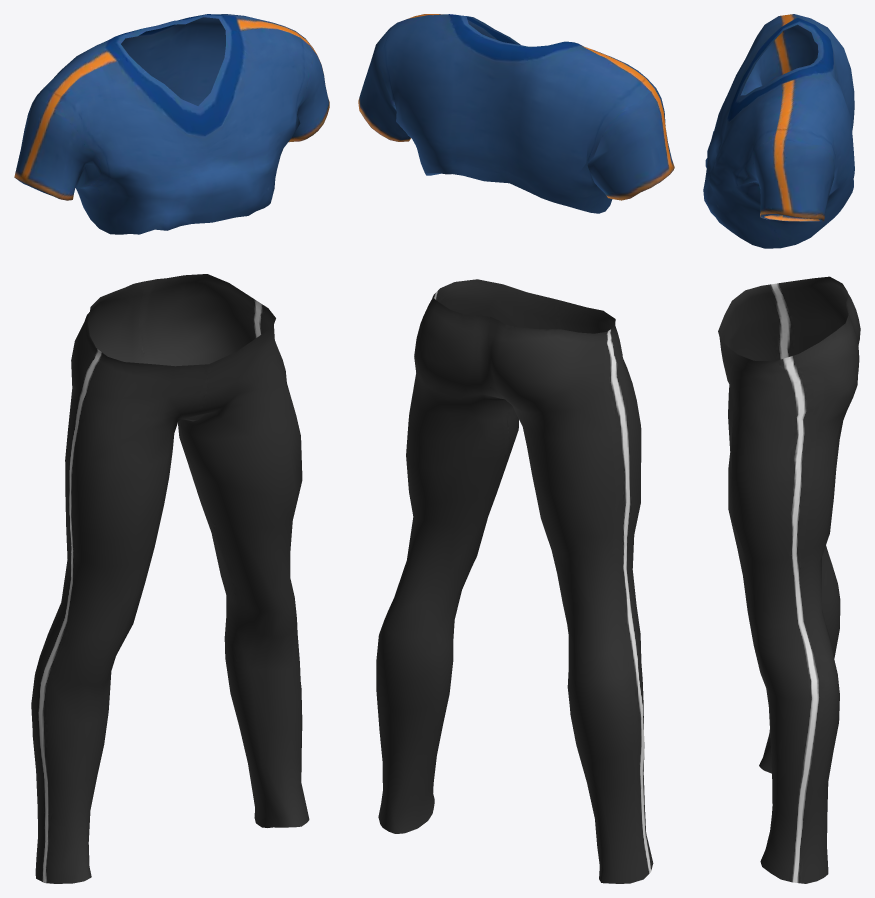
Rendered from female-sportsuit01.glb.
The picture shows the model from 3 angles, left to right: view 1: azimuth 30°, elevation 25°; view 2: azimuth 150°, elevation 25°; view 3: azimuth 270°, elevation 25°; orthographic projection. The views are drawn at different scales.
Parts seen in each view (by area): view 1: Human.female_sportsuit01; view 2: Human.female_sportsuit01; view 3: Human.female_sportsuit01.
Boxes of the visible parts, <box> form: Human.female_sportsuit01: <box>14,14,329,883</box>; Human.female_sportsuit01: <box>358,14,674,883</box>; Human.female_sportsuit01: <box>703,14,860,883</box>.
Bounding box in the file's own units: 0.5928 × 1.51 × 0.2767.
Materials: 1 (1 with a texture image).
